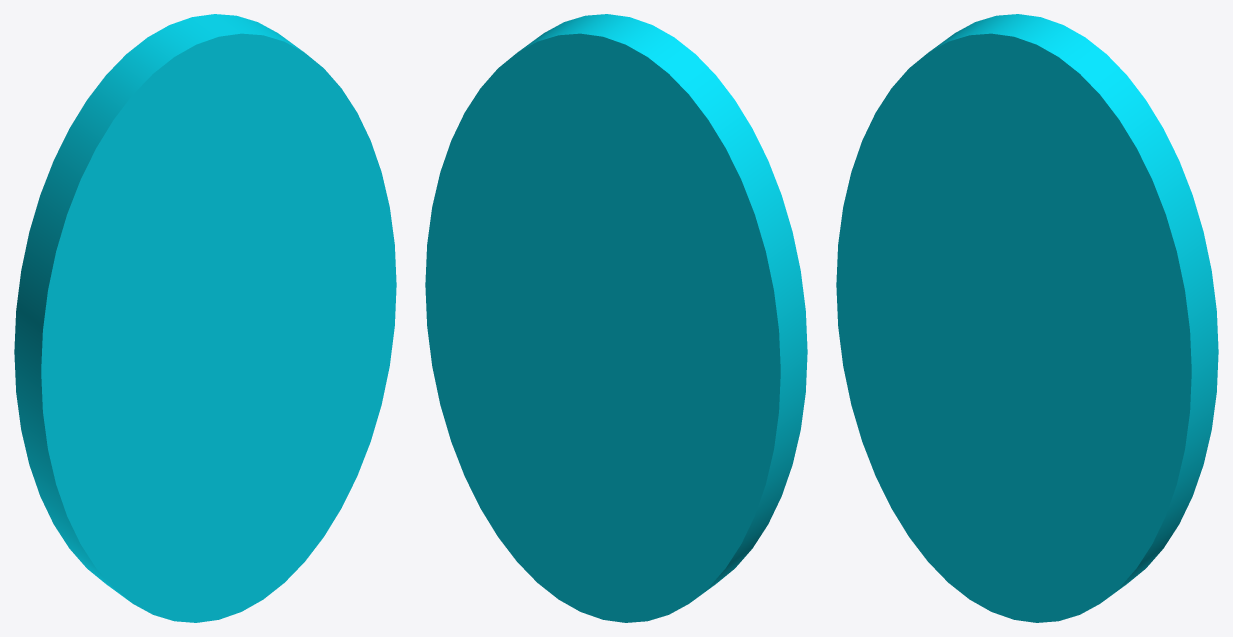
File: Oval.fbx
3 renders of one model, left to right at view 1: azimuth 30°, elevation 25°; view 2: azimuth 150°, elevation 25°; view 3: azimuth 330°, elevation 25°, orthographic.
Parts seen in each view (by area): view 1: Curve.001; view 2: Curve.001; view 3: Curve.001.
Boxes of the visible parts, x1,y1,x2,y2 form: Curve.001: [14, 14, 396, 622]; Curve.001: [425, 14, 807, 622]; Curve.001: [836, 14, 1218, 622].
Size of the model in its own units: 2.95 by 4.63 by 0.3854.
1 material, 1 textured.
